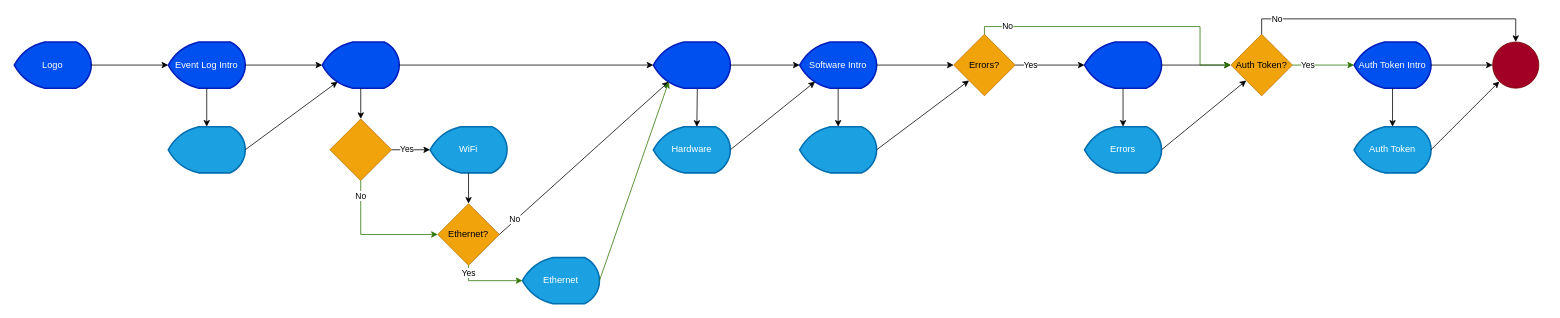
This 1560x318 diagram has some shape labels left out. The shapes that lost their labels are listed below. From the top down, each one's centre as x and y in pixels, then its label:
At (360,65): "Network Intro".
At (691,65): "Hardware Intro".
At (1122,65): "Errors Intro".
At (206,149): "Event Log".
At (360,149): "WiFi?".
At (837,149): "Software".
